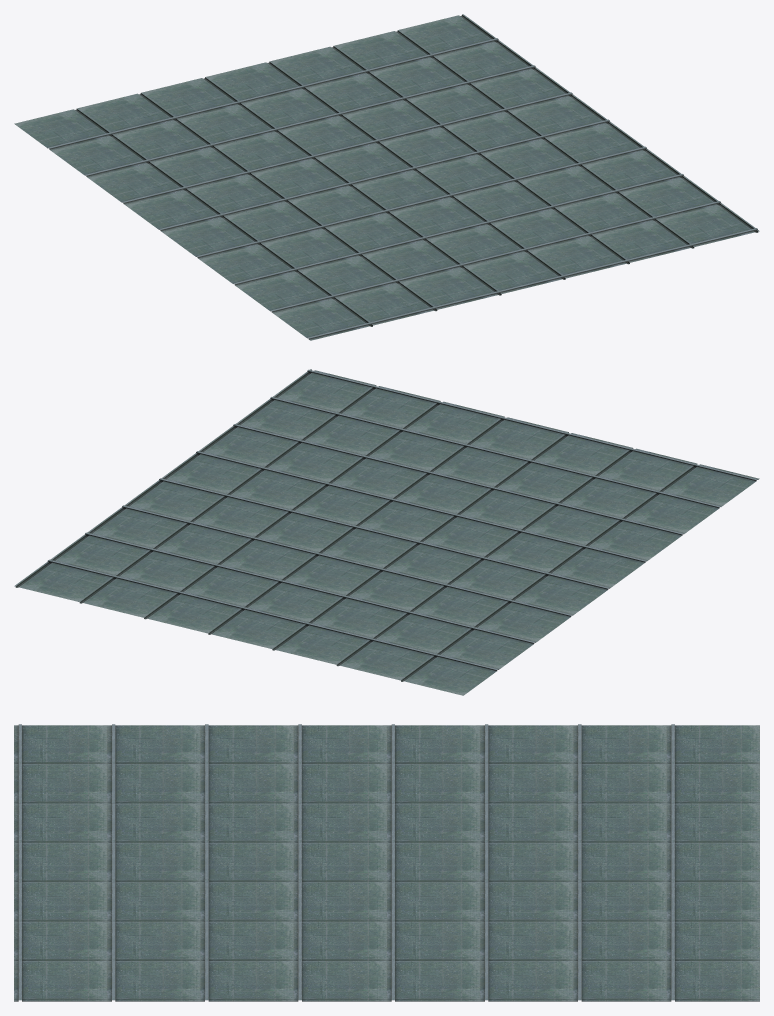
Rendered from terrain_obj_a.fbx.
The picture shows the model from 3 angles, top to bottom: view 1: azimuth 30°, elevation 25°; view 2: azimuth 150°, elevation 25°; view 3: azimuth 270°, elevation 25°; orthographic projection. The views are drawn at different scales.
Visible parts, largest first — view 1: terraine_obj_a; view 2: terraine_obj_a; view 3: terraine_obj_a.
Part boxes in pixels (left/top/right/bottom): terraine_obj_a: left=14, top=14, right=759, bottom=340; terraine_obj_a: left=14, top=369, right=759, bottom=695; terraine_obj_a: left=14, top=724, right=759, bottom=1001.
Bounding box in the file's own units: 2800 × 11.51 × 3200.
